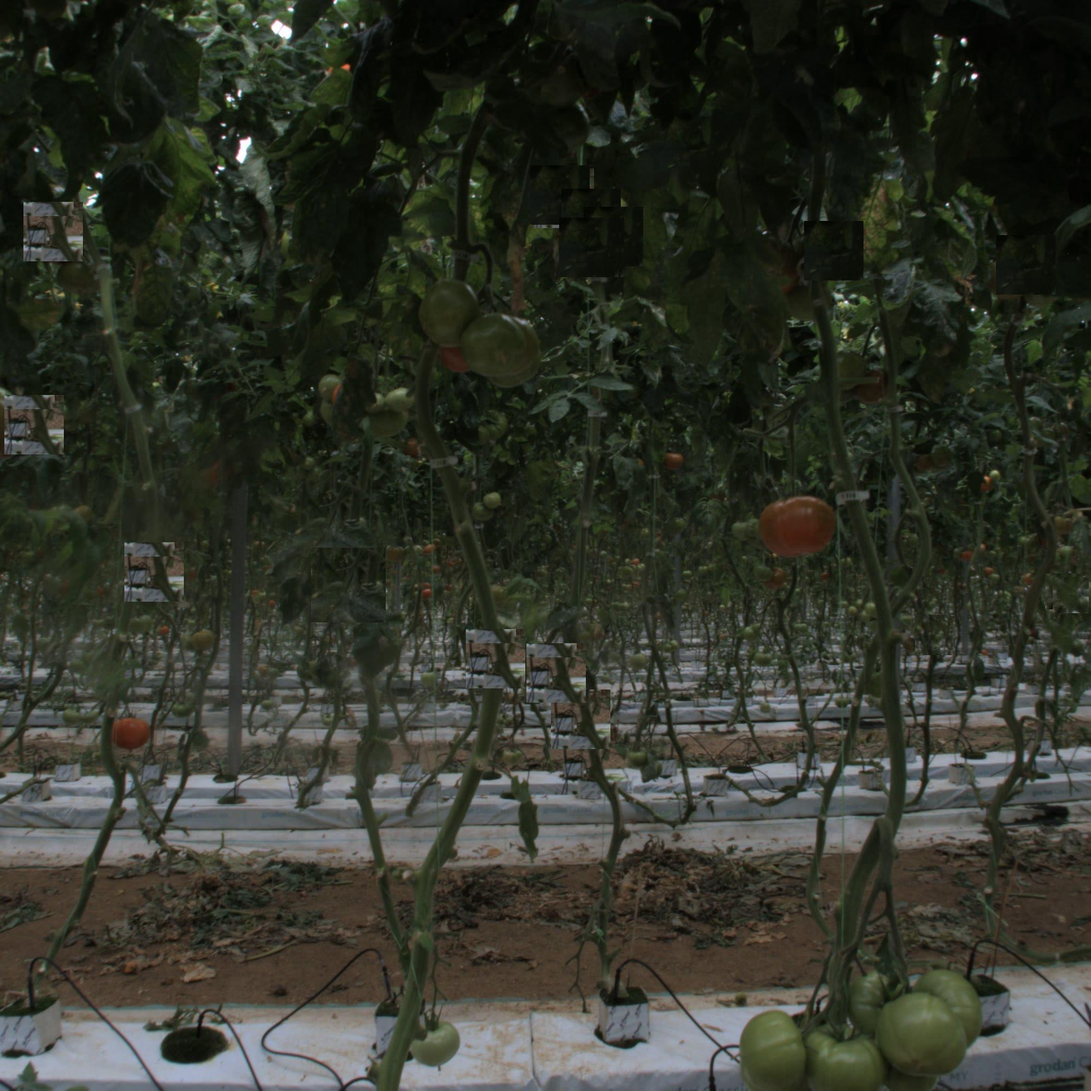fully-ripe: (113, 715, 148, 750)
semi-ripe: (758, 492, 832, 566)
unripe: (472, 311, 547, 386), (739, 1014, 813, 1088), (842, 968, 916, 1042), (812, 1015, 886, 1089), (913, 973, 987, 1047), (891, 997, 965, 1071), (416, 280, 481, 345), (411, 1015, 466, 1070)
